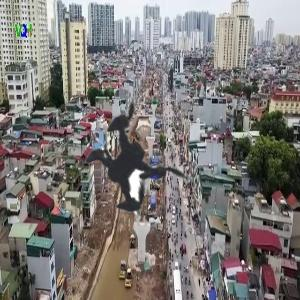drone: (13, 57, 230, 274)
